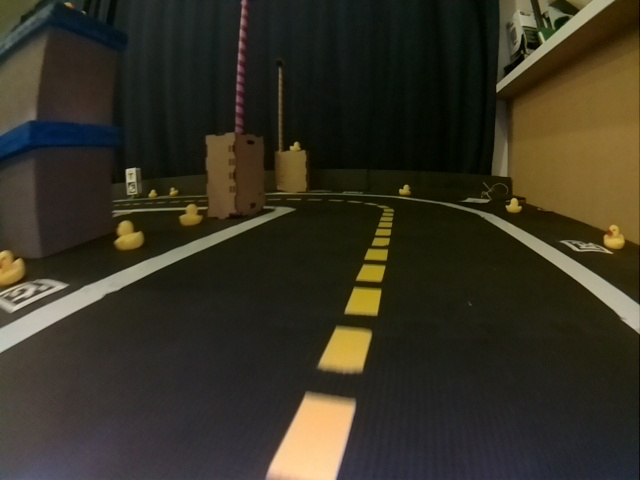Duckie: (113, 222, 142, 249), (3, 251, 25, 281), (178, 204, 201, 225), (604, 226, 624, 249), (507, 198, 521, 211), (400, 185, 411, 195), (291, 142, 301, 152)
QR code: (6, 279, 64, 309), (560, 240, 607, 254)
